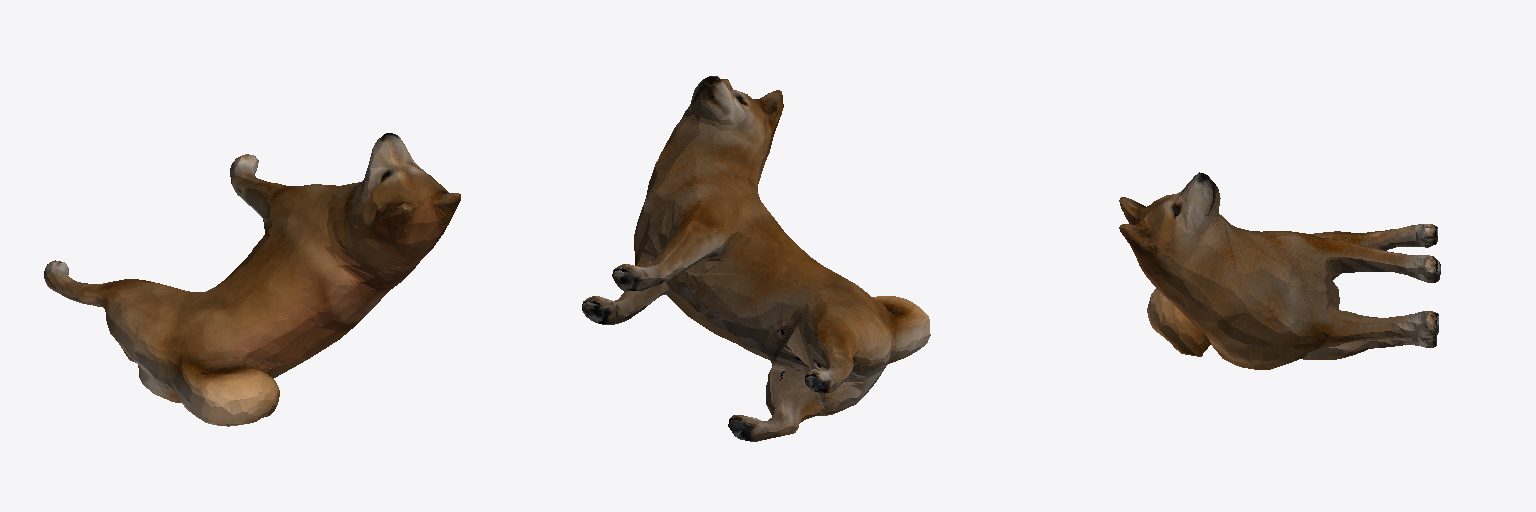
The picture shows the model from 3 angles: view 1: azimuth 30°, elevation 25°; view 2: azimuth 150°, elevation 25°; view 3: azimuth 270°, elevation 25°; orthographic projection.
Bounding box in the file's own units: 0.5041 × 0.4437 × 0.5052.
1 materials, 1 textured.